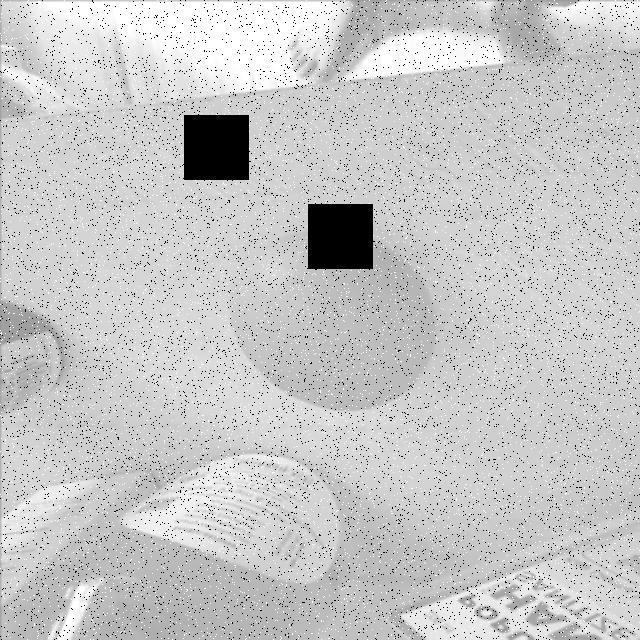egg: (218, 227, 442, 420)
